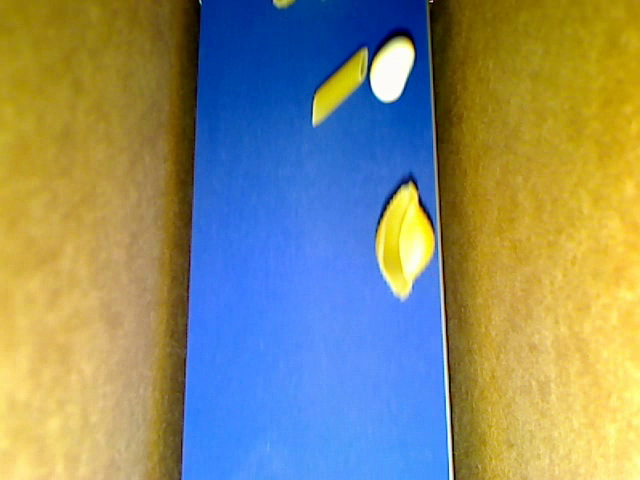penne: (312, 46, 368, 128)
shell: (374, 182, 436, 302)
